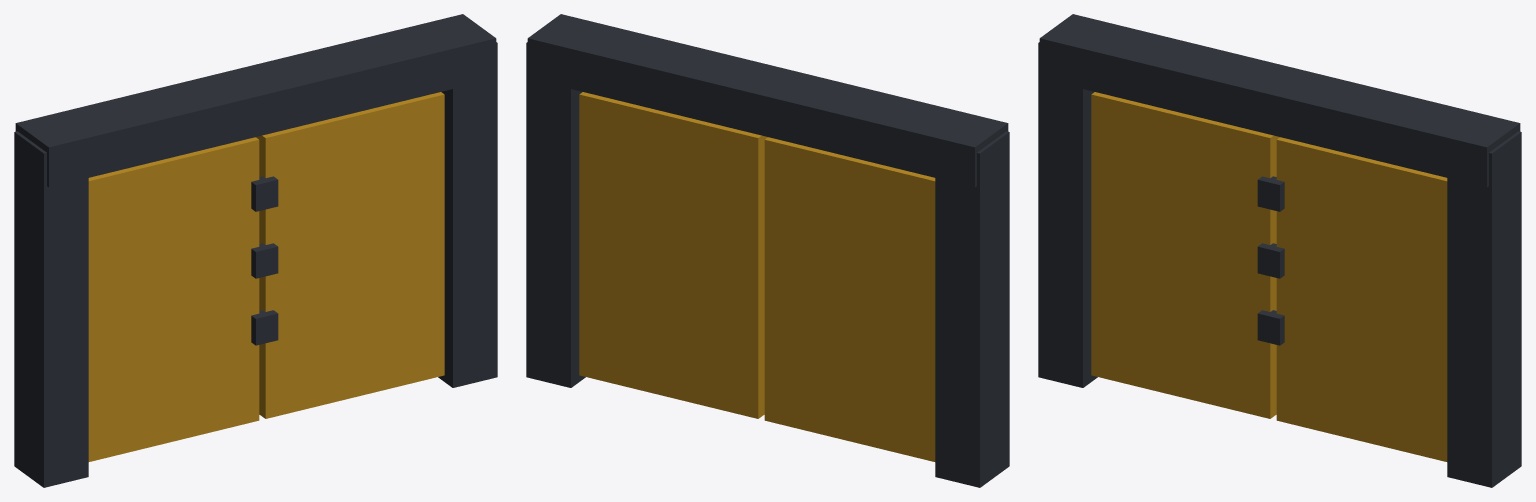
File: blast_gate.obj
3 renders of one model, left to right at view 1: azimuth 30°, elevation 25°; view 2: azimuth 150°, elevation 25°; view 3: azimuth 330°, elevation 25°, orthographic.
Bounding box in the file's own units: 7.1 × 5.1 × 0.9.
